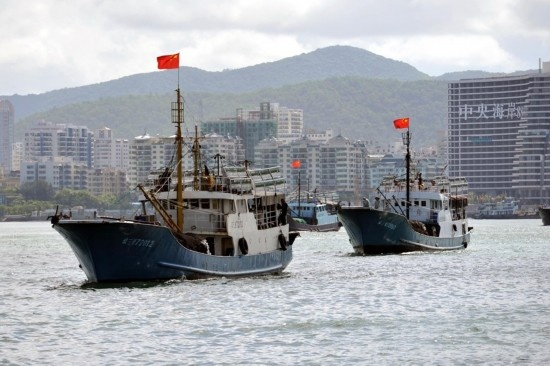otherboat: (48, 115, 296, 285), (330, 143, 475, 259), (280, 183, 346, 233)
